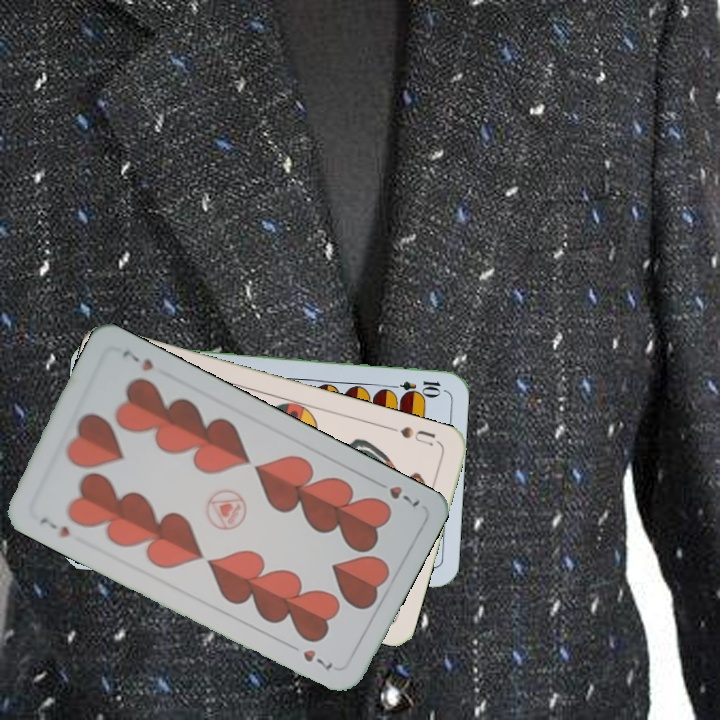E10: (384, 377, 443, 396)
H7: (384, 481, 423, 510), (35, 512, 73, 541)
SU: (384, 422, 438, 448)
